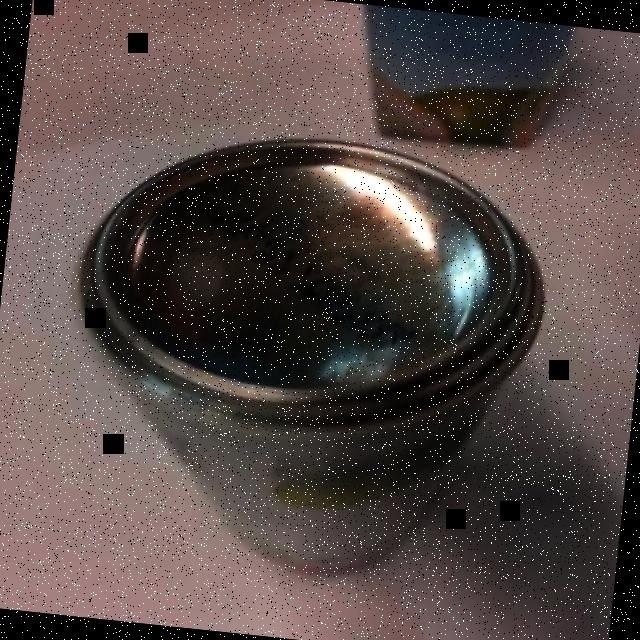can: (49, 115, 560, 592)
